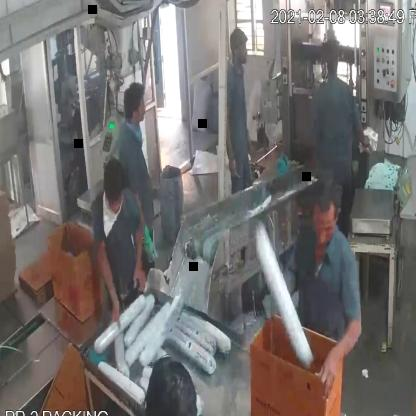no_glove: (315, 305, 366, 393), (87, 229, 123, 338), (124, 215, 150, 292)
